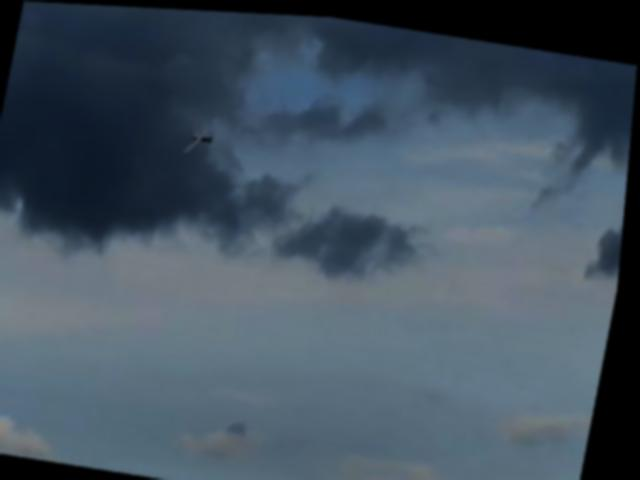uav: (180, 99, 230, 164)
